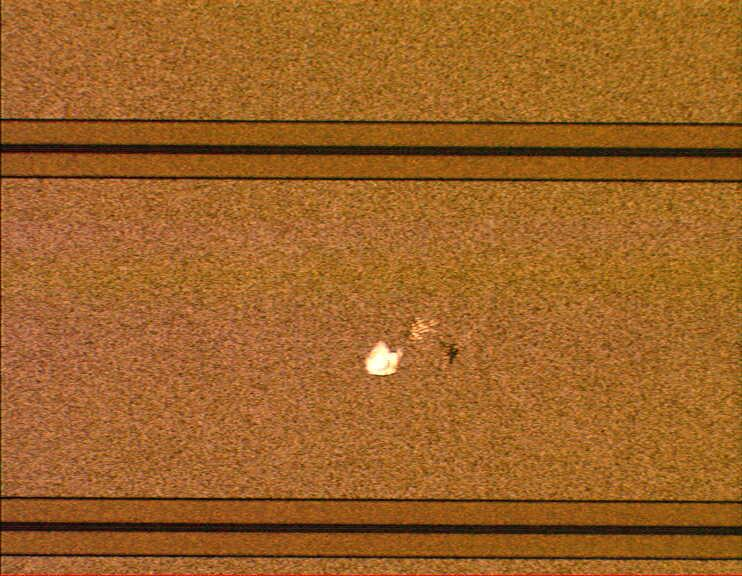SCRATCH: (359, 312, 484, 388)
